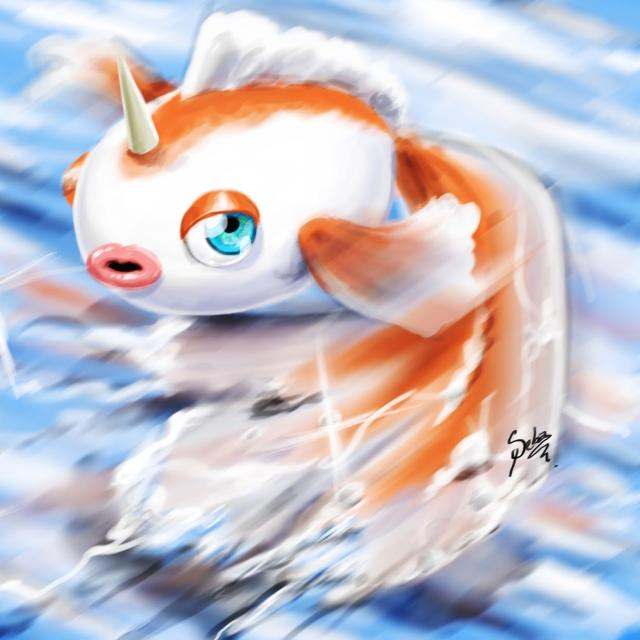Goldeen: (60, 17, 574, 542)
